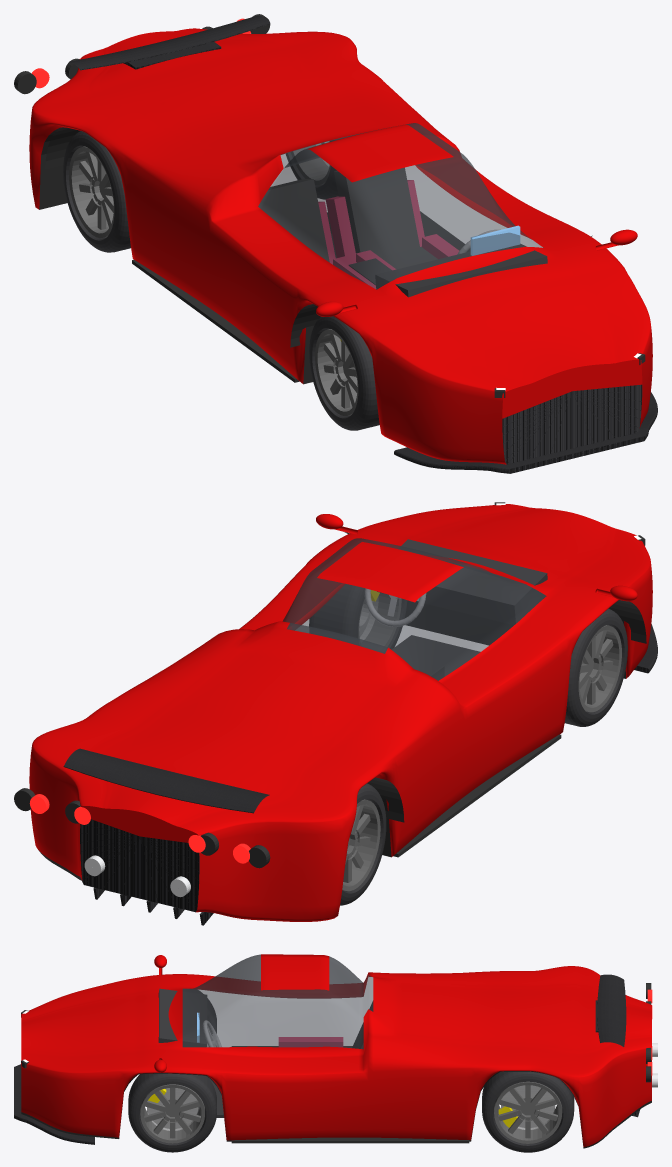
File: ferrari-laferrari.glb
The picture shows the model from 3 angles, top to bottom: view 1: azimuth 30°, elevation 25°; view 2: azimuth 150°, elevation 25°; view 3: azimuth 270°, elevation 25°; orthographic projection. The views are drawn at different scales.
Parts seen in each view (by area): view 1: Body_PrimaryPaint, Glass_Windows, Carbon_Exterior, Interior_Seats, WheelWells, Interior_SeatBolsters, Tire_FR, Rim_RR, Tire_RR, Rim_FR, Interior_Dashboard, Underbody (+3 smaller); view 2: Body_PrimaryPaint, Glass_Windows, Carbon_Exterior, Interior_Dashboard, WheelWells, Underbody, Rim_FR, Tire_FR, Rim_RR, Tire_FL, Interior_Tub, Lights_Housings (+5 smaller); view 3: Body_PrimaryPaint, Glass_Windows, Tire_FL, Carbon_Exterior, Tire_RL, Rim_RL, Rim_FL, Interior_Dashboard, WheelWells, Underbody, Interior_SeatBolsters, BrakeDisc_RL (+3 smaller).
Part boxes in pixels (bbox=[...]): Body_PrimaryPaint: bbox=[29, 28, 652, 464]; Glass_Windows: bbox=[258, 123, 543, 289]; Carbon_Exterior: bbox=[69, 15, 657, 473]; Interior_Seats: bbox=[258, 167, 437, 268]; WheelWells: bbox=[45, 126, 592, 382]; Interior_SeatBolsters: bbox=[318, 180, 458, 288]; Tire_FR: bbox=[309, 316, 379, 430]; Rim_RR: bbox=[69, 146, 114, 238]; Tire_RR: bbox=[63, 131, 130, 252]; Rim_FR: bbox=[315, 329, 358, 415]; Interior_Dashboard: bbox=[375, 244, 547, 297]; Underbody: bbox=[39, 127, 643, 422]; Body_PrimaryPaint: bbox=[29, 504, 652, 921]; Glass_Windows: bbox=[282, 538, 546, 680]; Carbon_Exterior: bbox=[63, 624, 657, 925]; Interior_Dashboard: bbox=[377, 539, 547, 624]; WheelWells: bbox=[344, 532, 646, 857]; Underbody: bbox=[38, 600, 625, 882]; Rim_FR: bbox=[578, 625, 621, 712]; Tire_FR: bbox=[564, 608, 627, 726]; Rim_RR: bbox=[342, 799, 380, 891]; Tire_FL: bbox=[309, 584, 407, 649]; Interior_Tub: bbox=[391, 635, 480, 676]; Lights_Housings: bbox=[14, 502, 645, 868]; Body_PrimaryPaint: bbox=[21, 954, 651, 1146]; Glass_Windows: bbox=[182, 954, 373, 1048]; Tire_FL: bbox=[128, 1073, 216, 1152]; Carbon_Exterior: bbox=[14, 974, 640, 1144]; Tire_RL: bbox=[482, 1071, 574, 1152]; Rim_RL: bbox=[494, 1081, 562, 1143]; Rim_FL: bbox=[140, 1084, 204, 1143]; Interior_Dashboard: bbox=[158, 988, 207, 1047]; WheelWells: bbox=[231, 1046, 469, 1143]; Underbody: bbox=[21, 1071, 651, 1148]; Interior_SeatBolsters: bbox=[278, 1037, 343, 1047]; BrakeDisc_RL: bbox=[501, 1085, 555, 1129].
Bounding box in the file's own units: 2.01 × 1.11 × 4.8.
Materials: 16 (2 with a texture image).
